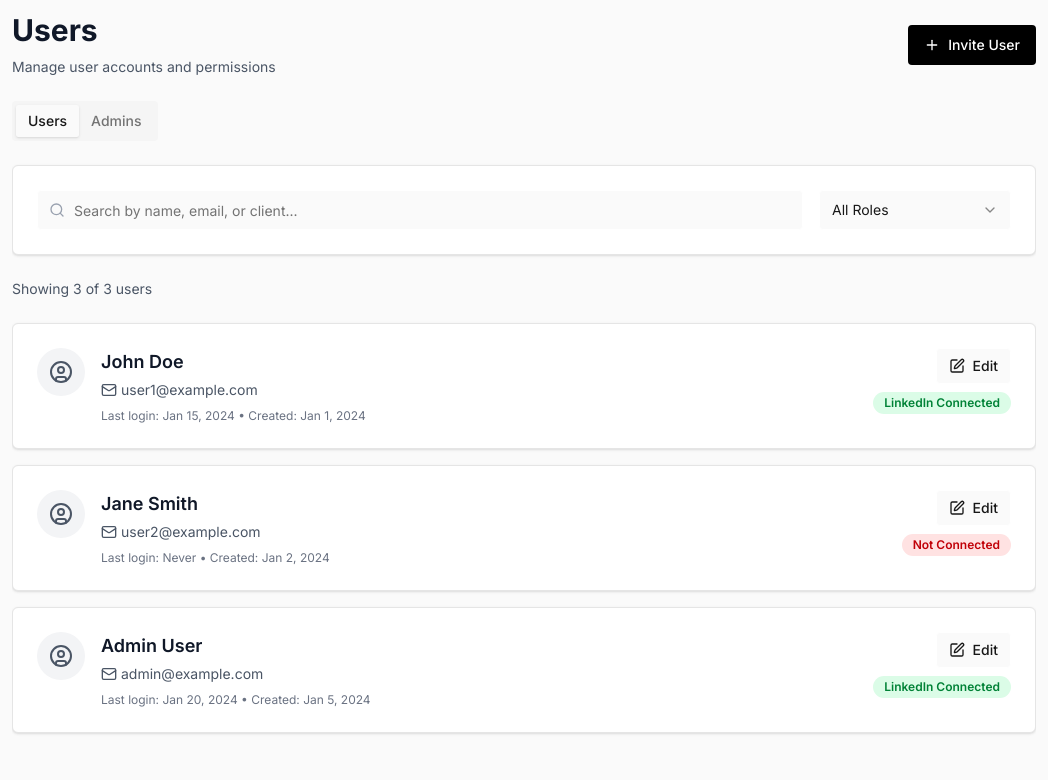
AdminUsersPage › Search Functionality › should show no results message when search has no matches
Expected: the heading "John Doe" is shown, [101,348,184,376]
Type "nonexistent" into the field with placeholder "Search by name, email, or client..." at (420, 210), box [37,190,803,230]
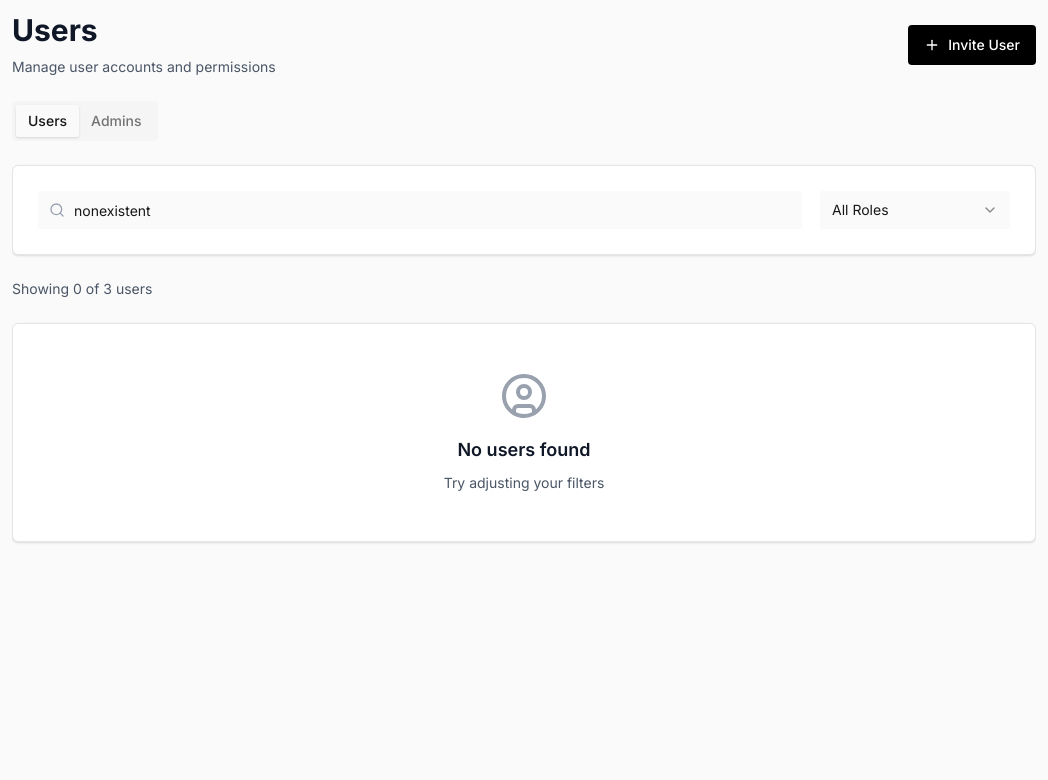
Now the heading "No users found" is shown, box [458,439,591,460]
Now the text "Try adjusting your filters" is shown, box [444,474,604,491]
